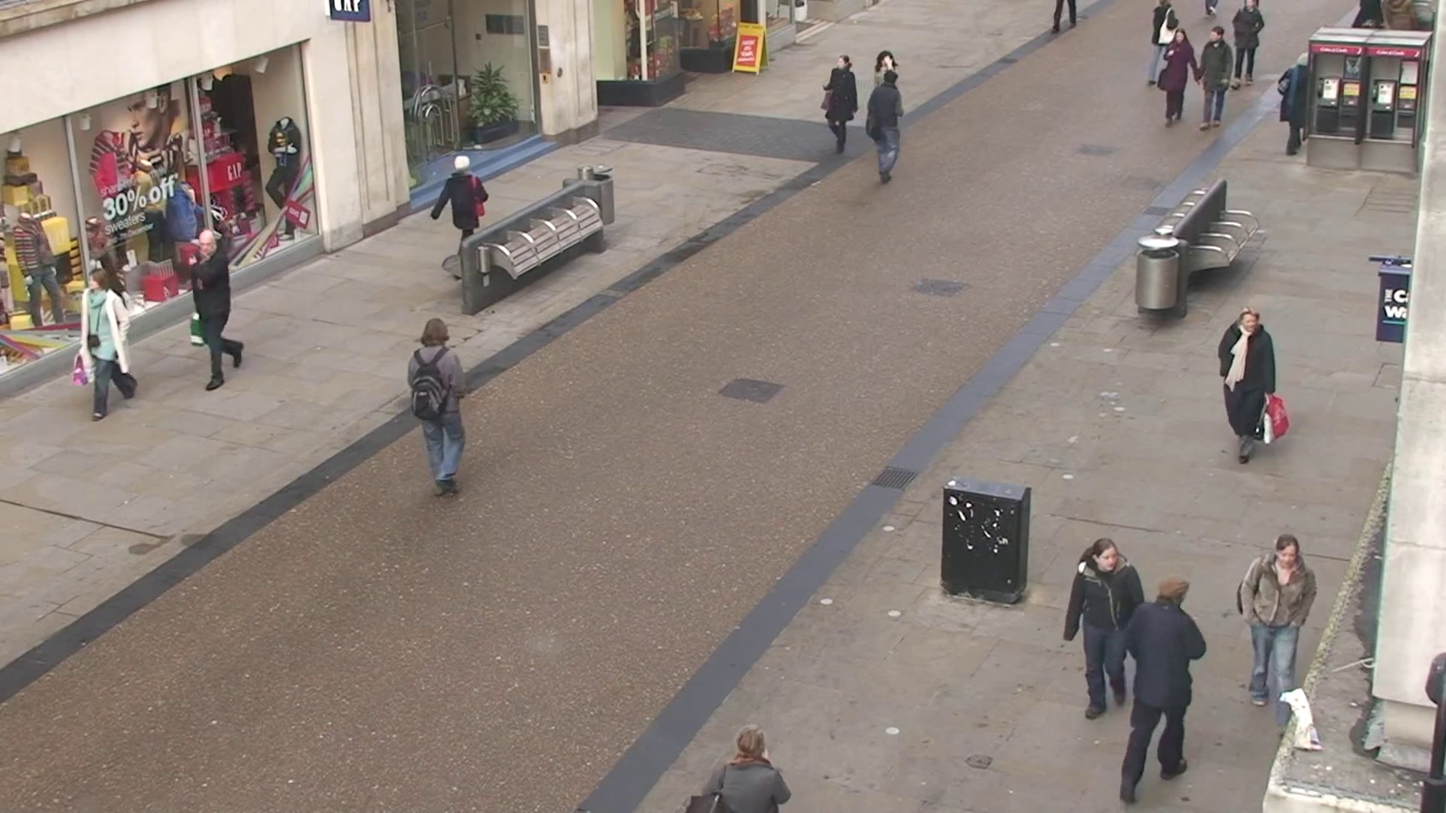person: (1114, 575, 1209, 801), (1063, 537, 1145, 723), (1238, 532, 1318, 717), (409, 317, 468, 498), (187, 215, 242, 391), (684, 726, 792, 813), (1218, 306, 1277, 461), (80, 266, 138, 420), (439, 151, 489, 262), (864, 53, 906, 184), (1153, 26, 1194, 126), (822, 56, 859, 151), (1276, 57, 1310, 157), (1200, 27, 1234, 126), (1231, 0, 1265, 84)
